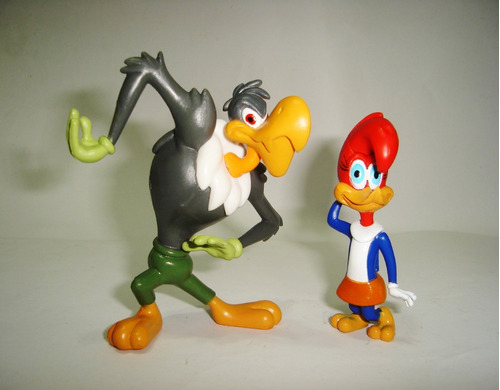picapau: (319, 96, 439, 354)
urubu: (61, 24, 312, 359)
